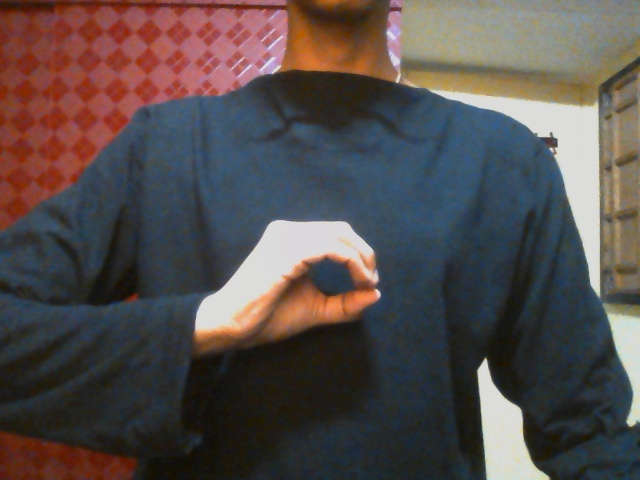O: (218, 218, 390, 357)
